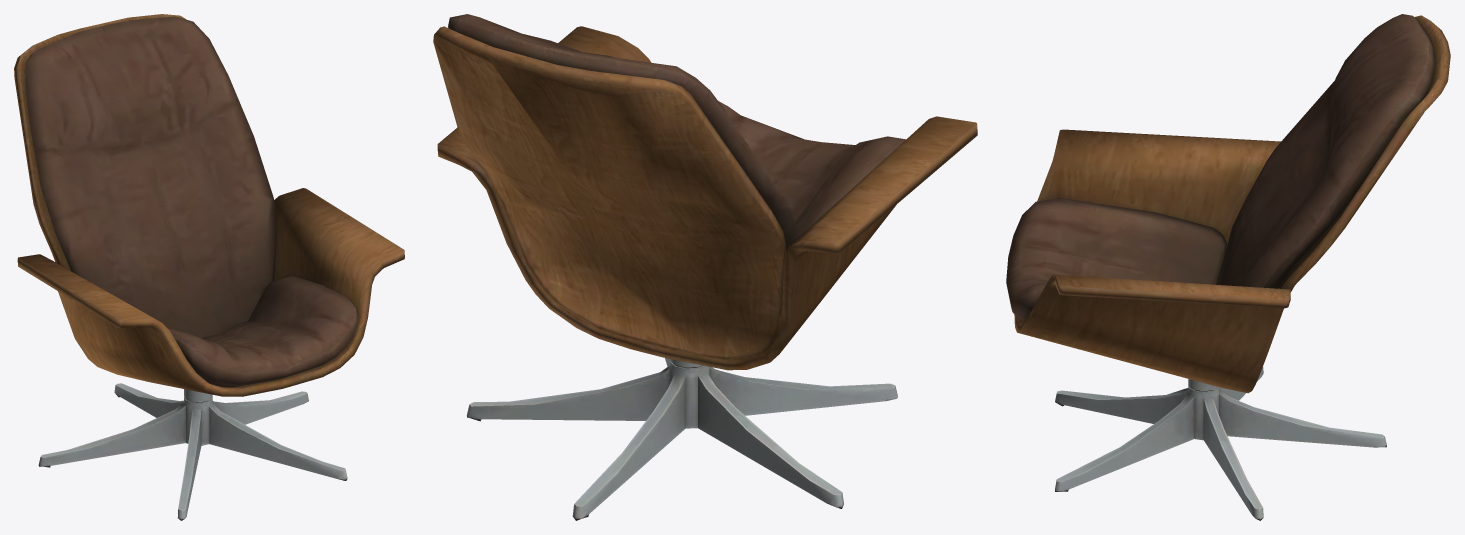
Rendered from mid_century_lounge_chair.glb.
3 views of the same model, side by side, from view 1: azimuth 30°, elevation 25°; view 2: azimuth 150°, elevation 25°; view 3: azimuth 270°, elevation 25° (orthographic). The views are drawn at different scales.
Visible parts, largest first — view 1: mid_century_lounge_chair; view 2: mid_century_lounge_chair; view 3: mid_century_lounge_chair.
Boxes of the visible parts, left/top/right/bottom form: mid_century_lounge_chair: left=14, top=14, right=404, bottom=520; mid_century_lounge_chair: left=433, top=14, right=977, bottom=520; mid_century_lounge_chair: left=1006, top=14, right=1450, bottom=520.
Bounding box in the file's own units: 0.9999 × 1.17 × 1.19.
1 material, 1 textured.
